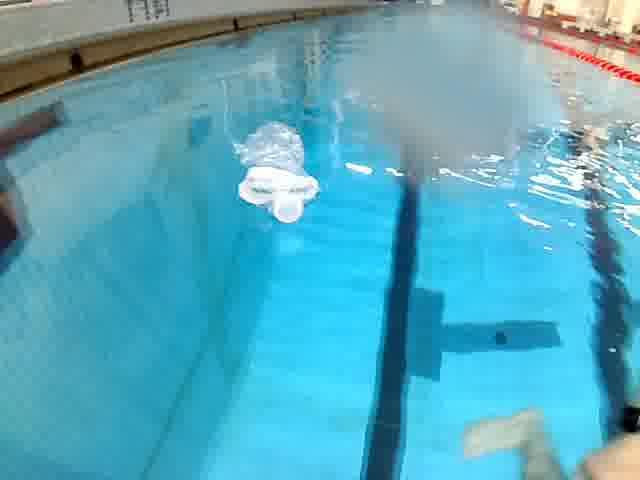Bottle: (234, 114, 329, 235)
